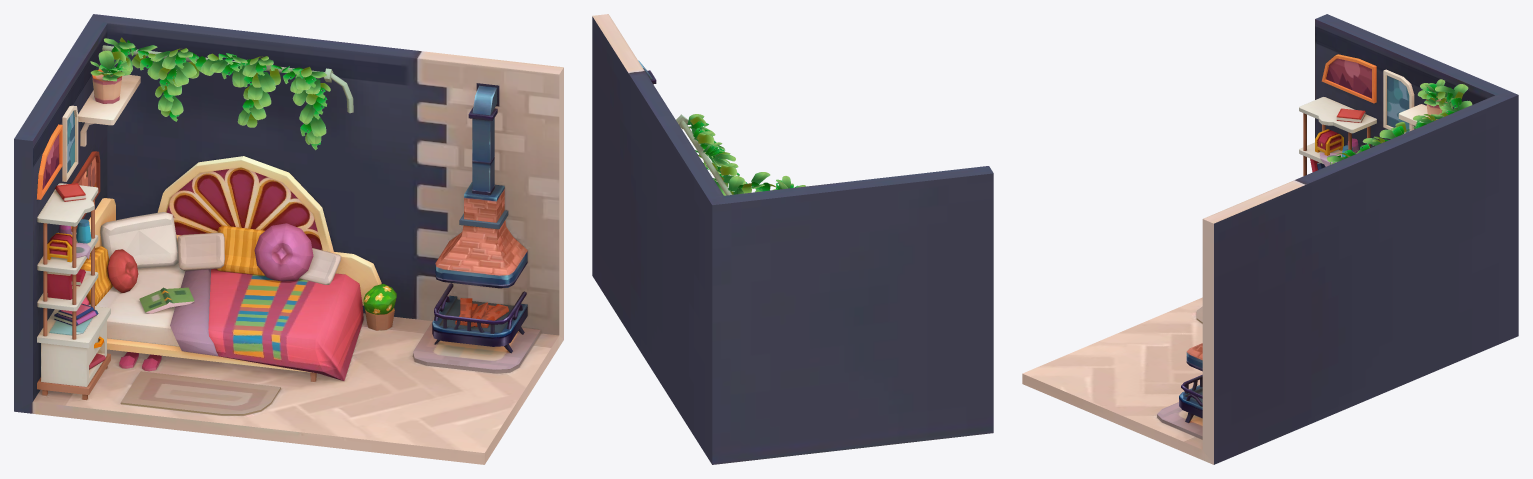
Rendered from cozy_room-transformed.glb.
The picture shows the model from 3 angles, left to right: view 1: azimuth 30°, elevation 25°; view 2: azimuth 150°, elevation 25°; view 3: azimuth 270°, elevation 25°; orthographic projection. The views are drawn at different scales.
Visible parts, largest first — view 1: Walls_phong1_0, Bed_Bed1_0, Fireplace_Fireplace1_0, Cupboard_Cupboard1_0, Leafs_Leafs1_0, Accesories_Accesor_0; view 2: Walls_phong1_0, Leafs_Leafs1_0, Accesories_Accesor_0; view 3: Walls_phong1_0, Accesories_Accesor_0, Cupboard_Cupboard1_0, Leafs_Leafs1_0, Fireplace_Fireplace1_0.
Boxes of the visible parts, x1,y1,x2,y2 form: Walls_phong1_0: (14, 14, 563, 464); Bed_Bed1_0: (80, 156, 396, 415); Fireplace_Fireplace1_0: (413, 83, 540, 373); Cupboard_Cupboard1_0: (37, 183, 110, 399); Leafs_Leafs1_0: (90, 37, 330, 150); Accesories_Accesor_0: (36, 45, 353, 231); Walls_phong1_0: (592, 14, 993, 464); Leafs_Leafs1_0: (687, 114, 805, 195); Accesories_Accesor_0: (676, 114, 732, 195); Walls_phong1_0: (1022, 14, 1518, 464); Accesories_Accesor_0: (1321, 54, 1452, 133); Cupboard_Cupboard1_0: (1299, 97, 1376, 176); Leafs_Leafs1_0: (1327, 79, 1472, 164); Fireplace_Fireplace1_0: (1157, 343, 1202, 439).
Bounding box in the file's own units: 4.97 × 2.69 × 4.97.
6 materials, 6 textured.
